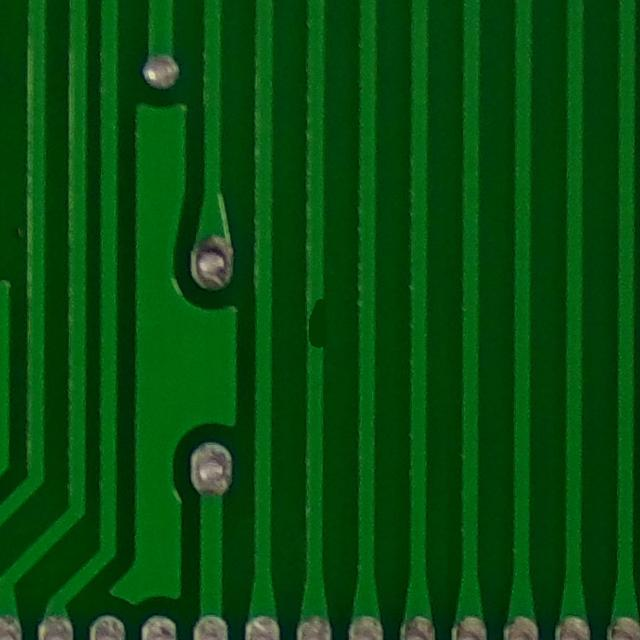mouse_bite: (292, 282, 348, 358)
